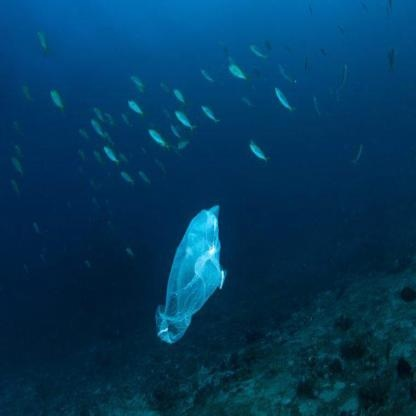pbag: (156, 204, 227, 344)
